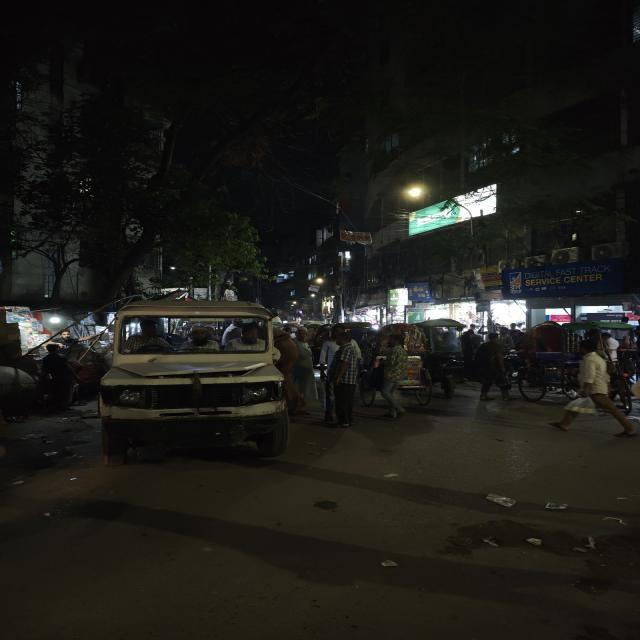human_hauler: (94, 296, 306, 460)
pedestrian: (552, 339, 639, 439), (322, 326, 366, 429), (36, 342, 78, 406), (474, 331, 511, 401), (381, 336, 411, 418)
rickshaw: (370, 324, 443, 415), (519, 317, 575, 402)
